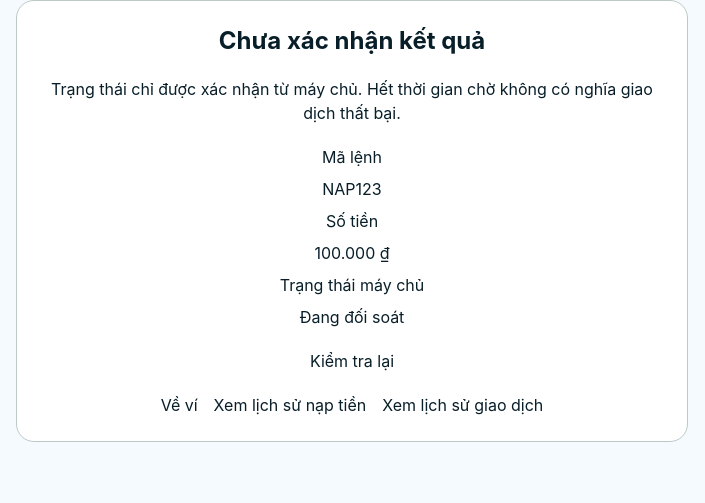
VNPAY return › stays pending until the backend confirms APPROVED
This screenshot has width=705, height=503.
Expected: the heading "Nạp tiền thành công" is not shown
What coordinates should you click on to do the following:
click the button "Kiểm tra lại"
I would click on:
 (352, 361)
Its box is [310,349,394,373].
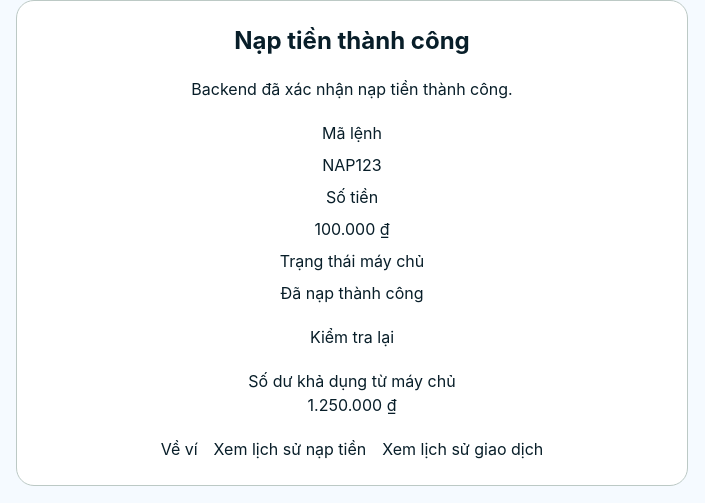
Expected: the heading "Nạp tiền thành công" is shown, [234,26,470,55]
